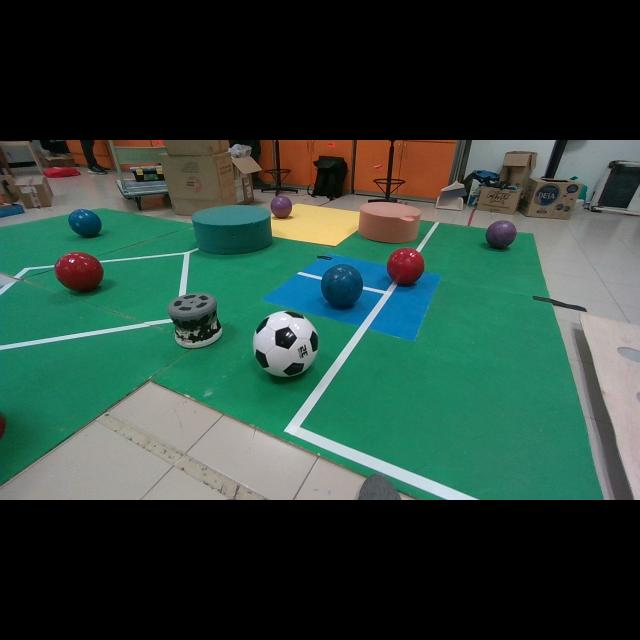B: (321, 264, 364, 307), (69, 209, 101, 238)
P: (485, 220, 516, 248), (271, 195, 292, 219)
R: (54, 251, 104, 291), (386, 248, 425, 286)
